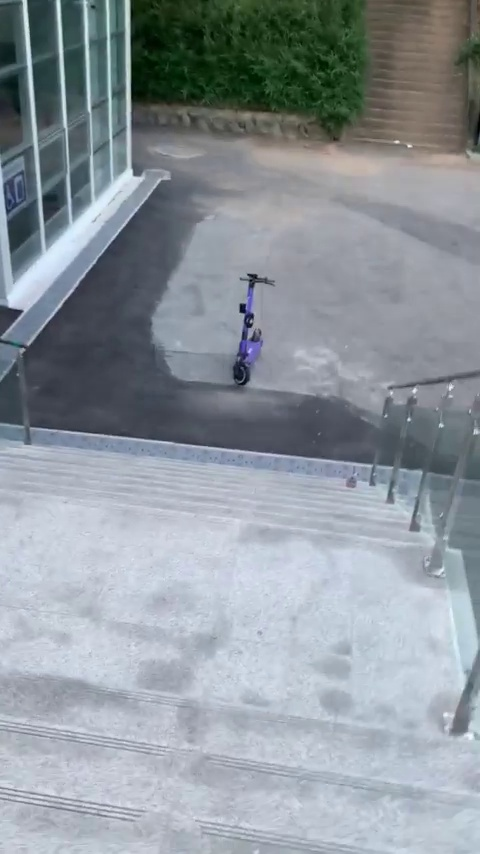beam: (225, 261, 275, 397), (223, 259, 273, 395)
